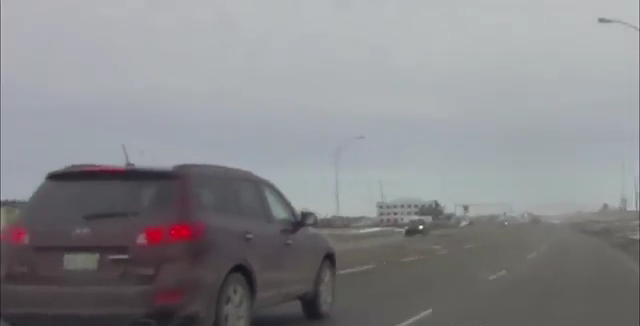car: (2, 142, 337, 326), (403, 218, 430, 238)
